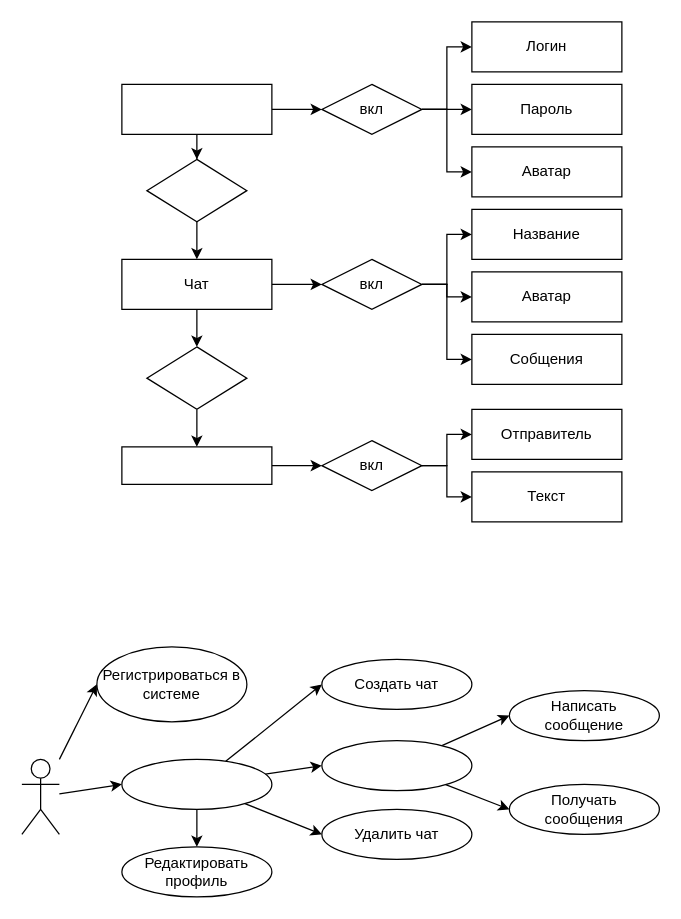
This 681x919 diagram has some shape labels left out. The shapes that lost their labels are listed below. From the top down, each one's centre as x and y in pixels, then its label:
the point at 196,108: Ползователь
the point at 196,190: Создает
the point at 196,377: Имеет
the point at 196,465: Сообщения
the point at 196,783: Войти в систему
the point at 396,765: Использовать чат
the point at 40,796: Actor
